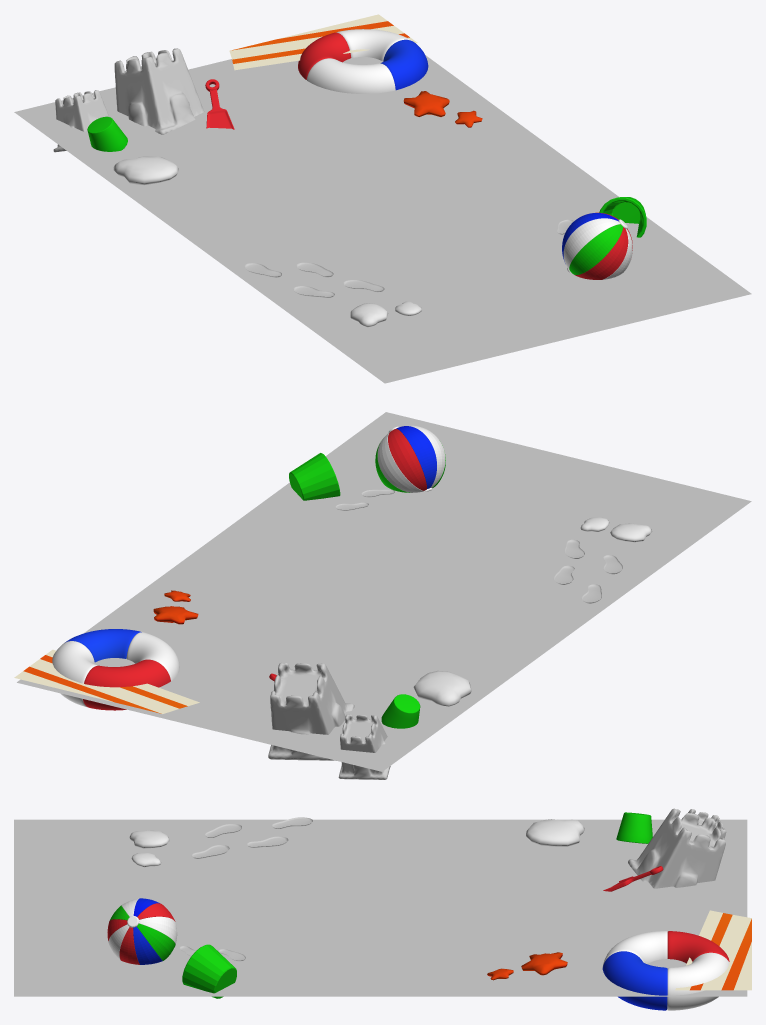
File: Map03.FBX
3 views of the same model, one above another, from view 1: azimuth 30°, elevation 25°; view 2: azimuth 150°, elevation 25°; view 3: azimuth 270°, elevation 25° (orthographic).
Parts seen in each view (by area): view 1: pCube2, Props, Object001, Object002; view 2: pCube2, Props, Object001, Object002; view 3: pCube2, Props, Object001, Object002.
Boxes of the visible parts, x1,y1,x2,y2 form: pCube2: (14,48,751,383); Props: (87,14,482,327); Object001: (562,212,632,279); Object002: (599,197,646,237); pCube2: (17,412,751,779); Props: (14,517,652,728); Object001: (375,425,445,492); Object002: (289,453,340,500); pCube2: (14,808,747,996); Props: (129,812,751,1010); Object001: (107,898,177,964); Object002: (182,944,236,998).
Size of the model in its own units: 80 by 18.91 by 141.
